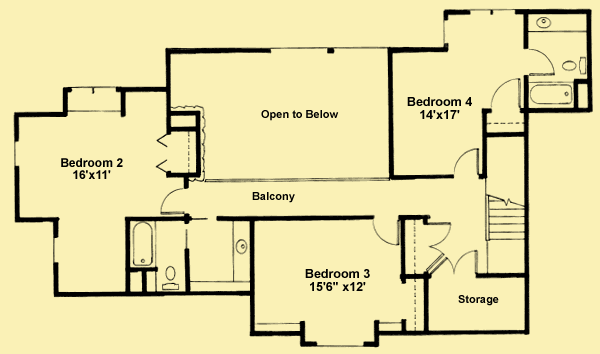bathroom has a tub, small and large sink: (521, 9, 593, 117)
bathroom which has a tub and large sink: (15, 88, 195, 295)
bedroom is having a bathroom with tub space, small and large sink: (125, 215, 253, 300)
stairs to the other floors: (482, 131, 536, 278)
this is another bedroom on this floor: (252, 210, 429, 348)
this portion is open to below: (166, 47, 392, 186)
